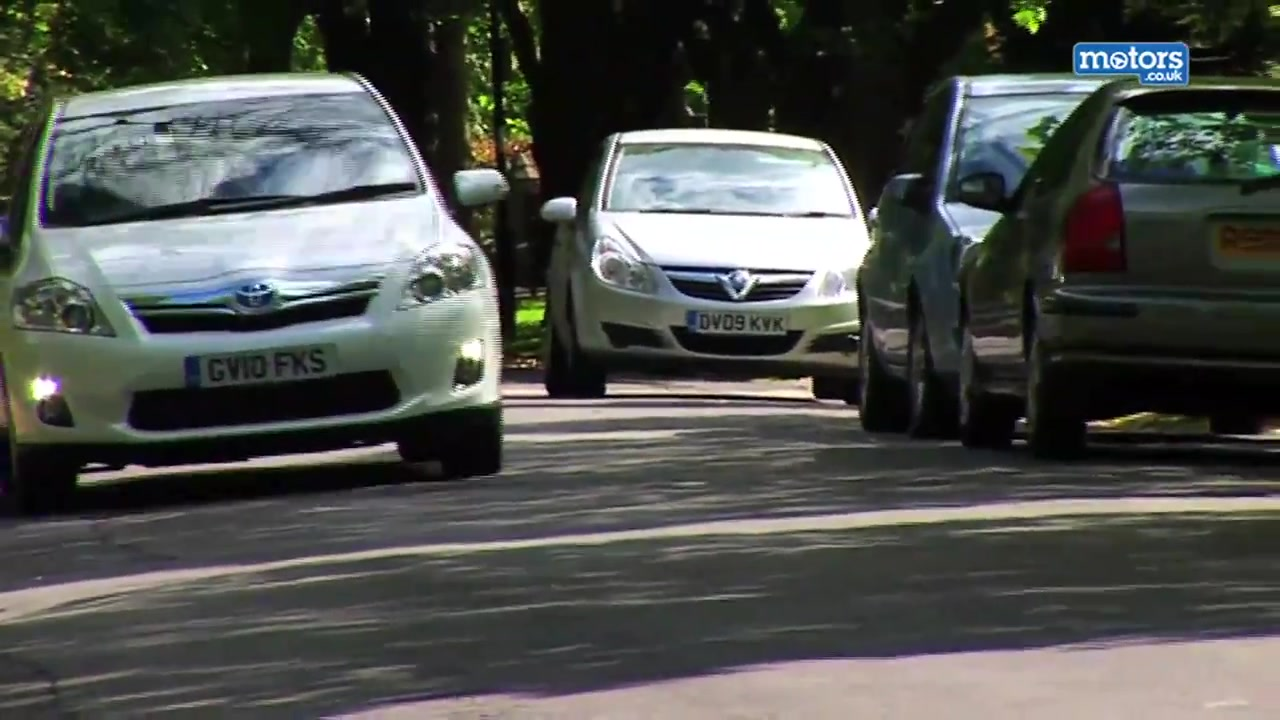car: (4, 70, 513, 495), (950, 78, 1280, 451), (540, 120, 883, 405), (852, 78, 1110, 445)
